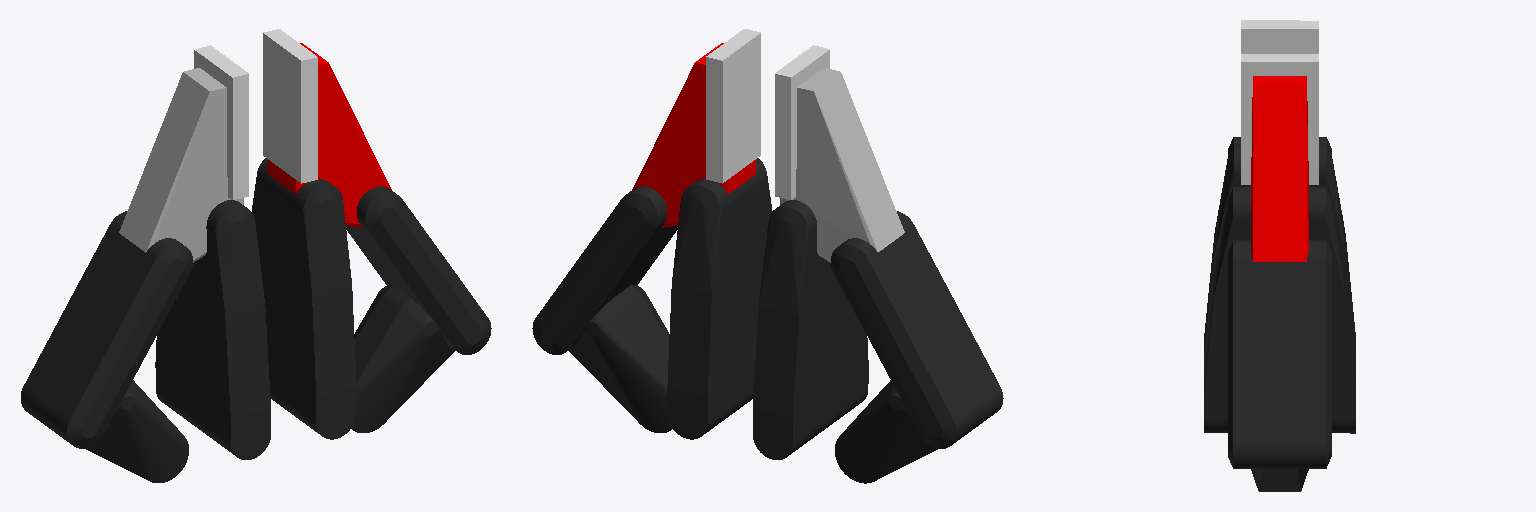
URDF robot description (gen3_robotiq_2f_85):
<?xml version="1.0" encoding="utf-8"?>
<!-- =================================================================================== -->
<!-- |    This document was autogenerated by xacro from gen3_robotiq_2f_85.xacro       | -->
<!-- |    EDITING THIS FILE BY HAND IS NOT RECOMMENDED                                 | -->
<!-- =================================================================================== -->
<robot name="gen3_robotiq_2f_85">
<mujoco>
  <compiler meshdir="meshes/" balanceinertia="true" discardvisual="false"/>
</mujoco>
  <material name="White">
    <color rgba="1 1 1 1"/>
  </material>
  <material name="Grey">
    <color rgba="0.75294 0.75294 0.75294 1"/>
  </material>
  <material name="DarkGrey">
    <color rgba="0.2 0.2 0.2 1"/>
  </material>
  <material name="LightGrey">
    <color rgba="0.9 0.9 0.9 1"/>
  </material>
  <link name="mobile_base_link">
    <inertial>
      <origin rpy="0 0 0" xyz="0 0 0.085"/>
      <mass value="50.0"/>
      <inertia ixx="0.004622" ixy="9E-06" ixz="6E-05" iyy="0.004495" iyz="9E-06" izz="0.002079"/>
    </inertial>
    <visual>
      <origin rpy="0 0 0" xyz="0 0 0"/>
      <geometry>
        <mesh filename="meshes/base/mobile_base.obj"/>
      </geometry>
      <material name="White"/>
    </visual>
    <collision>
      <origin rpy="0 0 0" xyz="0 0 0"/>
      <geometry>
        <mesh filename="meshes/base/mobile_base.obj"/>
      </geometry>
    </collision>
  </link>
  <link name="kinova_base_link">
    <inertial>
      <origin rpy="0 0 0" xyz="-0.000648 -0.000166 0.084487"/>
      <mass value="1.697"/>
      <inertia ixx="0.004622" ixy="9E-06" ixz="6E-05" iyy="0.004495" iyz="9E-06" izz="0.002079"/>
    </inertial>
    <visual>
      <origin rpy="0 0 0" xyz="0 0 0"/>
      <geometry>
        <mesh filename="meshes/arm_col/base_link.STL"/>
      </geometry>
      <material name="">
        <color rgba="0.75294 0.75294 0.75294 1"/>
      </material>
    </visual>
    <collision>
      <origin rpy="0 0 0" xyz="0 0 0"/>
      <geometry>
        <mesh filename="meshes/arm_col/base_link.STL"/>
      </geometry>
    </collision>
  </link>
  <joint name="joint_0" type="fixed">
    <!-- NOTE: in reality x is reversed for kinova arm, hence non-zero rpy -->
    <origin rpy="0 0 3.14159" xyz="0 0 0.335"/>
    <parent link="mobile_base_link"/>
    <child link="kinova_base_link"/>
    <axis xyz="0 0 1"/>
  </joint>
  <link name="shoulder_link">
    <inertial>
      <origin rpy="0 0 0" xyz="-2.3E-05 -0.010364 -0.07336"/>
      <mass value="1.3773"/>
      <inertia ixx="0.00457" ixy="1E-06" ixz="2E-06" iyy="0.004831" iyz="0.000448" izz="0.001409"/>
    </inertial>
    <visual>
      <origin rpy="0 0 0" xyz="0 0 0"/>
      <geometry>
        <mesh filename="meshes/arm_col/shoulder_link.STL"/>
      </geometry>
      <material name="">
        <color rgba="0.75294 0.75294 0.75294 1"/>
      </material>
    </visual>
    <collision>
      <origin rpy="0 0 0" xyz="0 0 0"/>
      <geometry>
        <mesh filename="meshes/arm_col/shoulder_link.STL"/>
      </geometry>
    </collision>
  </link>
  <joint name="joint_1" type="continuous">
    <origin rpy="3.1416 2.7629E-18 -4.9305E-36" xyz="0 0 0.15643"/>
    <parent link="kinova_base_link"/>
    <child link="shoulder_link"/>
    <axis xyz="0 0 1"/>
    <limit effort="39" lower="-3.14" upper="3.14" velocity="1.3963"/>
  </joint>
  <link name="half_arm_1_link">
    <inertial>
      <origin rpy="0 0 0" xyz="-4.4E-05 -0.09958 -0.013278"/>
      <mass value="1.1636"/>
      <inertia ixx="0.011088" ixy="5E-06" ixz="0" iyy="0.001072" iyz="-0.000691" izz="0.011255"/>
    </inertial>
    <visual>
      <origin rpy="0 0 0" xyz="0 0 0"/>
      <geometry>
        <mesh filename="meshes/arm_col/half_arm_1_link.STL"/>
      </geometry>
      <material name="LightGrey">
        <color rgba="0.75294 0.75294 0.75294 1"/>
      </material>
    </visual>
    <collision>
      <origin rpy="0 0 0" xyz="0 0 0"/>
      <geometry>
        <mesh filename="meshes/arm_col/half_arm_1_link.STL"/>
      </geometry>
    </collision>
  </link>
  <joint name="joint_2" type="revolute">
    <origin rpy="1.5708 2.1343E-17 -1.1102E-16" xyz="0 0.005375 -0.12838"/>
    <parent link="shoulder_link"/>
    <child link="half_arm_1_link"/>
    <axis xyz="0 0 1"/>
    <limit effort="100" lower="-6.2832" upper="6.2832" velocity="0.5"/>
  </joint>
  <link name="half_arm_2_link">
    <inertial>
      <origin rpy="0 0 0" xyz="-4.4E-05 -0.006641 -0.117892"/>
      <mass value="1.1636"/>
      <inertia ixx="0.010932" ixy="0" ixz="-7E-06" iyy="0.011127" iyz="0.000606" izz="0.001043"/>
    </inertial>
    <visual>
      <origin rpy="0 0 0" xyz="0 0 0"/>
      <geometry>
        <mesh filename="meshes/arm_col/half_arm_2_link.STL"/>
      </geometry>
      <material name="Grey">
        <color rgba="0.75294 0.75294 0.75294 1"/>
      </material>
    </visual>
    <collision>
      <origin rpy="0 0 0" xyz="0 0 0"/>
      <geometry>
        <mesh filename="meshes/arm_col/half_arm_2_link.STL"/>
      </geometry>
    </collision>
  </link>
  <joint name="joint_3" type="revolute">
    <origin rpy="-1.5708 1.2326E-32 -2.9122E-16" xyz="0 -0.21038 -0.006375"/>
    <parent link="half_arm_1_link"/>
    <child link="half_arm_2_link"/>
    <axis xyz="0 0 1"/>
    <limit effort="100" lower="-6.2832" upper="6.2832" velocity="0.5"/>
  </joint>
  <link name="forearm_link">
    <inertial>
      <origin rpy="0 0 0" xyz="-1.8E-05 -0.075478 -0.015006"/>
      <mass value="0.9302"/>
      <inertia ixx="0.008147" ixy="-1E-06" ixz="0" iyy="0.000631" iyz="-0.0005" izz="0.008316"/>
    </inertial>
    <visual>
      <origin rpy="0 0 0" xyz="0 0 0"/>
      <geometry>
        <mesh filename="meshes/arm_col/forearm_link.STL"/>
      </geometry>
      <material name="LightGrey">
        <color rgba="0.75294 0.75294 0.75294 1"/>
      </material>
    </visual>
    <collision>
      <origin rpy="0 0 0" xyz="0 0 0"/>
      <geometry>
        <mesh filename="meshes/arm_col/forearm_link.STL"/>
      </geometry>
    </collision>
  </link>
  <joint name="joint_4" type="revolute">
    <origin rpy="1.5708 -6.6954E-17 -1.6653E-16" xyz="0 0.006375 -0.21038"/>
    <parent link="half_arm_2_link"/>
    <child link="forearm_link"/>
    <axis xyz="0 0 1"/>
    <limit effort="100" lower="-6.2832" upper="6.2832" velocity="0.5"/>
  </joint>
  <link name="spherical_wrist_1_link">
    <inertial>
      <origin rpy="0 0 0" xyz="1E-06 -0.009432 -0.063883"/>
      <mass value="0.6781"/>
      <inertia ixx="0.001596" ixy="0" ixz="0" iyy="0.001607" iyz="0.000256" izz="0.000399"/>
    </inertial>
    <visual>
      <origin rpy="0 0 0" xyz="0 0 0"/>
      <geometry>
        <mesh filename="meshes/arm_col/spherical_wrist_1_link.STL"/>
      </geometry>
      <material name="Grey">
        <color rgba="0.75294 0.75294 0.75294 1"/>
      </material>
    </visual>
    <collision>
      <origin rpy="0 0 0" xyz="0 0 0"/>
      <geometry>
        <mesh filename="meshes/arm_col/spherical_wrist_1_link.STL"/>
      </geometry>
    </collision>
  </link>
  <joint name="joint_5" type="revolute">
    <origin rpy="-1.5708 2.2204E-16 -6.373E-17" xyz="0 -0.20843 -0.006375"/>
    <parent link="forearm_link"/>
    <child link="spherical_wrist_1_link"/>
    <axis xyz="0 0 1"/>
    <limit effort="30" lower="-6.2832" upper="6.2832" velocity="0.5"/>
  </joint>
  <link name="spherical_wrist_2_link">
    <inertial>
      <origin rpy="0 0 0" xyz="1E-06 -0.045483 -0.00965"/>
      <mass value="0.6781"/>
      <inertia ixx="0.001641" ixy="0" ixz="0" iyy="0.00041" iyz="-0.000278" izz="0.001641"/>
    </inertial>
    <visual>
      <origin rpy="0 0 0" xyz="0 0 0"/>
      <geometry>
        <mesh filename="meshes/arm_col/spherical_wrist_2_link.STL"/>
      </geometry>
      <material name="Grey">
        <color rgba="0.75294 0.75294 0.75294 1"/>
      </material>
    </visual>
    <collision>
      <origin rpy="0 0 0" xyz="0 0 0"/>
      <geometry>
        <mesh filename="meshes/arm_col/spherical_wrist_2_link.STL"/>
      </geometry>
    </collision>
  </link>
  <joint name="joint_6" type="revolute">
    <origin rpy="1.5708 9.2076E-28 -8.2157E-15" xyz="0 0.00017505 -0.10593"/>
    <parent link="spherical_wrist_1_link"/>
    <child link="spherical_wrist_2_link"/>
    <axis xyz="0 0 1"/>
    <limit effort="30" lower="-6.2832" upper="6.2832" velocity="0.5"/>
  </joint>
  <link name="bracelet_link">
    <inertial>
      <origin rpy="0 0 0" xyz="0.000281 0.011402 -0.029798"/>
      <mass value="0.5"/>
      <inertia ixx="0.000587" ixy="3E-06" ixz="3E-06" iyy="0.000369" iyz="-0.000118" izz="0.000609"/>
    </inertial>
    <visual>
      <origin rpy="0 0 0" xyz="0 0 0"/>
      <geometry>
        <mesh filename="meshes/arm_col/bracelet_with_vision_link.STL"/>
      </geometry>
      <material name="Grey">
        <color rgba="0.75294 0.75294 0.75294 1"/>
      </material>
    </visual>
    <collision>
      <origin rpy="0 0 0" xyz="0 0 0"/>
      <geometry>
        <mesh filename="meshes/arm_col/bracelet_with_vision_link.STL"/>
      </geometry>
    </collision>
  </link>
  <joint name="joint_7" type="revolute">
    <origin rpy="-1.5708 -5.5511E-17 9.6396E-17" xyz="0 -0.10593 -0.00017505"/>
    <parent link="spherical_wrist_2_link"/>
    <child link="bracelet_link"/>
    <axis xyz="0 0 1"/>
    <limit effort="30" lower="-6.2832" upper="6.2832" velocity="0.5"/>
  </joint>
  <link name="end_effector_link"/>
  <joint name="end_effector" type="fixed">
    <origin rpy="3.14159265358979 1.09937075168372E-32 0" xyz="0 0 -0.0615250000000001"/>
    <parent link="bracelet_link"/>
    <child link="end_effector_link"/>
    <axis xyz="0 0 0"/>
  </joint>
  <!-- Tool frame used by the arm -->
  <link name="tool_frame"/>
  <joint name="tool_frame_joint" type="fixed">
    <origin rpy="0 0 0" xyz="0 0 0.1425"/>  # was: 0.120
    <parent link="end_effector_link"/>
    <child link="tool_frame"/>
    <axis xyz="0 0 0"/>
  </joint>
  <!-- This joint was added by Kinova -->
  <joint name="gripper_base_joint" type="fixed">
    <parent link="end_effector_link"/>
    <child link="robotiq_arg2f_base_link"/>
    <origin rpy="0.0 0.0 1.57" xyz="0.0 0.0 0.0"/>
  </joint>
  <link name="robotiq_arg2f_base_link">
    <inertial>
      <origin rpy="0 0 0" xyz="8.625E-08 -4.6583E-06 0.03145"/>
      <mass value="0.22652"/>
      <inertia ixx="0.00020005" ixy="-4.2442E-10" ixz="-2.9069E-10" iyy="0.00017832" iyz="-3.4402E-08" izz="0.00013478"/>
    </inertial>
    <visual>
      <origin rpy="0 0 0" xyz="0 0 0"/>
      <geometry>
        <mesh filename="meshes/gripper/collision/robotiq_arg2f_base_link_kinova_frame.stl"/>
      </geometry>
      <material name="DarkGrey">
        <color rgba="0.1 0.1 0.1 1"/>
      </material>
    </visual>
    <collision>
      <origin rpy="0 0 0" xyz="0 0 0"/>
      <geometry>
        <mesh filename="meshes/gripper/collision/robotiq_arg2f_base_link_kinova_frame.stl"/>
      </geometry>
    </collision>
  </link>
  <gazebo reference="robotiq_arg2f_base_link">
    <material>Gazebo/Black</material>
  </gazebo>
  <link name="left_outer_knuckle">
    <inertial>
      <origin rpy="0 0 0" xyz="-0.000200000000003065 0.0199435877845359 0.0292245259211331"/>
      <mass value="0.00853198276973456"/>
      <inertia ixx="2.89328108496468E-06" ixy="-1.57935047237397E-19" ixz="-1.93980378593255E-19" iyy="1.86719750325683E-06" iyz="-1.21858577871576E-06" izz="1.21905238907251E-06"/>
    </inertial>
    <visual>
      <origin rpy="0 0 0" xyz="0 0 0"/>
      <geometry>
        <mesh filename="meshes/gripper/visual/robotiq_arg2f_85_outer_knuckle.stl" scale="0.001 0.001 0.001"/>
      </geometry>
      <material name="DarkGrey"/>
    </visual>
    <collision>
      <origin rpy="0 0 0" xyz="0 0 0"/>
      <geometry>
        <mesh filename="meshes/gripper/collision/robotiq_arg2f_85_outer_knuckle.stl" scale="0.001 0.001 0.001"/>
      </geometry>
    </collision>
  </link>
  <link name="left_outer_finger">
    <inertial>
      <origin rpy="0 0 0" xyz="0.00030115855001899 0.0373907951953854 -0.0208027427000385"/>
      <mass value="0.022614240507152"/>
      <inertia ixx="1.52518312458174E-05" ixy="9.76583423954399E-10" ixz="-5.43838577022588E-10" iyy="6.17694243867776E-06" iyz="6.78636130740228E-06" izz="1.16494917907219E-05"/>
    </inertial>
    <visual>
      <origin rpy="0 0 0" xyz="0 0 0"/>
      <geometry>
        <mesh filename="meshes/gripper/visual/robotiq_arg2f_85_outer_finger.stl" scale="0.001 0.001 0.001"/>
      </geometry>
      <material name="DarkGrey">
      </material>
    </visual>
    <collision>
      <origin rpy="0 0 0" xyz="0 0 0"/>
      <geometry>
        <mesh filename="meshes/gripper/collision/robotiq_arg2f_85_outer_finger.stl" scale="0.001 0.001 0.001"/>
      </geometry>
    </collision>
  </link>
  <link name="left_inner_finger">
    <inertial>
      <origin rpy="0 0 0" xyz="0.000299999999999317 0.0160078233491243 -0.0136945669206257"/>
      <mass value="0.0104003125914103"/>
      <inertia ixx="2.71909453810972E-06" ixy="1.35402465472579E-21" ixz="-7.1817349065269E-22" iyy="7.69100314106116E-07" iyz="6.74715432769696E-07" izz="2.30315190420171E-06"/>
    </inertial>
    <visual>
      <origin rpy="0 0 0" xyz="0 0 0"/>
      <geometry>
        <mesh filename="meshes/gripper/visual/robotiq_arg2f_85_inner_finger.stl" scale="0.001 0.001 0.001"/>
      </geometry>
      <material name="Grey"/>
    </visual>
    <collision>
      <origin rpy="0 0 0" xyz="0 0 0"/>
      <geometry>
        <mesh filename="meshes/gripper/collision/robotiq_arg2f_85_inner_finger.stl" scale="0.001 0.001 0.001"/>
      </geometry>
    </collision>
  </link>
  <link name="left_inner_finger_pad">
    <visual>
      <origin rpy="0 0 0" xyz="0 0 0"/>
      <geometry>
        <!-- box size="0.022 0.00635 0.0375"/ -->
        <mesh filename="meshes/gripper/visual/robotiq_arg2f_85_pad.stl" scale="0.001 0.001 0.001" />
      </geometry>
      <material name="Grey">
        <color rgba="0.9 0.9 0.9 1"/>
      </material>
    </visual>
    <collision>
      <origin rpy="0 0 0" xyz="0 0 0"/>
      <geometry>
        <!--box size="0.022 0.00635 0.0375"/ -->
        <mesh filename="meshes/gripper/collision/robotiq_arg2f_85_pad.stl" scale="0.001 0.001 0.001" />
      </geometry>
      <material name="Grey"/>
    </collision>
  </link>
  <link name="left_inner_knuckle">
    <inertial>
      <origin rpy="0 0 0" xyz="0.000123011831763771 0.0507850843201817 0.00103968640075166"/>
      <mass value="0.0271177346495152"/>
      <inertia ixx="2.61910379223783E-05" ixy="-2.43616858946494E-07" ixz="-6.37789906117123E-09" iyy="2.8270243746167E-06" iyz="-5.37200748039765E-07" izz="2.83695868220296E-05"/>
    </inertial>
    <visual>
      <origin rpy="0 0 0" xyz="0 0 0"/>
      <geometry>
        <mesh filename="meshes/gripper/visual/robotiq_arg2f_85_inner_knuckle.stl" scale="0.001 0.001 0.001"/>
      </geometry>
      <material name="DarkGrey"/>
    </visual>
    <collision>
      <origin rpy="0 0 0" xyz="0 0 0"/>
      <geometry>
        <mesh filename="meshes/gripper/collision/robotiq_arg2f_85_inner_knuckle.stl" scale="0.001 0.001 0.001"/>
      </geometry>
    </collision>
  </link>
  <link name="right_outer_knuckle">
    <inertial>
      <origin rpy="0 0 0" xyz="-0.000200000000003065 0.0199435877845359 0.0292245259211331"/>
      <mass value="0.00853198276973456"/>
      <inertia ixx="2.89328108496468E-06" ixy="-1.57935047237397E-19" ixz="-1.93980378593255E-19" iyy="1.86719750325683E-06" iyz="-1.21858577871576E-06" izz="1.21905238907251E-06"/>
    </inertial>
    <visual>
      <origin rpy="0 0 0" xyz="0 0 0"/>
      <geometry>
        <mesh filename="meshes/gripper/visual/robotiq_arg2f_85_outer_knuckle.stl" scale="0.001 0.001 0.001"/>
      </geometry>
      <material name="DarkGrey"/>
    </visual>
    <collision>
      <origin rpy="0 0 0" xyz="0 0 0"/>
      <geometry>
        <mesh filename="meshes/gripper/collision/robotiq_arg2f_85_outer_knuckle.stl" scale="0.001 0.001 0.001"/>
      </geometry>
    </collision>
  </link>
  <link name="right_outer_finger">
    <inertial>
      <origin rpy="0 0 0" xyz="0.00030115855001899 0.0373907951953854 -0.0208027427000385"/>
      <mass value="0.022614240507152"/>
      <inertia ixx="1.52518312458174E-05" ixy="9.76583423954399E-10" ixz="-5.43838577022588E-10" iyy="6.17694243867776E-06" iyz="6.78636130740228E-06" izz="1.16494917907219E-05"/>
    </inertial>
    <visual>
      <origin rpy="0 0 0" xyz="0 0 0"/>
      <geometry>
        <mesh filename="meshes/gripper/visual/robotiq_arg2f_85_outer_finger.stl" scale="0.001 0.001 0.001"/>
      </geometry>
      <material name="DarkGrey">
      </material>
    </visual>
    <collision>
      <origin rpy="0 0 0" xyz="0 0 0"/>
      <geometry>
        <mesh filename="meshes/gripper/collision/robotiq_arg2f_85_outer_finger.stl" scale="0.001 0.001 0.001"/>
      </geometry>
    </collision>
  </link>
  <link name="right_inner_finger">
    <inertial>
      <origin rpy="0 0 0" xyz="0.000299999999999317 0.0160078233491243 -0.0136945669206257"/>
      <mass value="0.0104003125914103"/>
      <inertia ixx="2.71909453810972E-06" ixy="1.35402465472579E-21" ixz="-7.1817349065269E-22" iyy="7.69100314106116E-07" iyz="6.74715432769696E-07" izz="2.30315190420171E-06"/>
    </inertial>
    <visual>
      <origin rpy="0 0 0" xyz="0 0 0"/>
      <geometry>
        <mesh filename="meshes/gripper/visual/robotiq_arg2f_85_inner_finger.stl" scale="0.001 0.001 0.001"/>
      </geometry>
      <material name="Grey">
        <color rgba="1 0 0 1"/>
      </material>
    </visual>
    <collision>
      <origin rpy="0 0 0" xyz="0 0 0"/>
      <geometry>
        <mesh filename="meshes/gripper/collision/robotiq_arg2f_85_inner_finger.stl" scale="0.001 0.001 0.001"/>
      </geometry>
    </collision>
  </link>
  <link name="right_inner_finger_pad">
    <visual>
      <origin rpy="0 0 0" xyz="0 0 0"/>
      <geometry>
        <!-- box size="0.022 0.00635 0.0375"/ -->
        <mesh filename="meshes/gripper/visual/robotiq_arg2f_85_pad.stl" scale="0.001 0.001 0.001" />
      </geometry>
      <material name="Grey">
        <color rgba="0.9 0.9 0.9 1"/>
      </material>
    </visual>
    <collision>
      <origin rpy="0 0 0" xyz="0 0 0"/>
      <geometry>
        <!-- box size="0.022 0.00635 0.0375"/ -->
        <mesh filename="meshes/gripper/collision/robotiq_arg2f_85_pad.stl" scale="0.001 0.001 0.001" />
      </geometry>
      <material name="Grey">
        <color rgba="0.9 0.0 0.0 1"/>
      </material>
    </collision>
  </link>
  <link name="right_inner_knuckle">
    <inertial>
      <origin rpy="0 0 0" xyz="0.000123011831763771 0.0507850843201817 0.00103968640075166"/>
      <mass value="0.0271177346495152"/>
      <inertia ixx="2.61910379223783E-05" ixy="-2.43616858946494E-07" ixz="-6.37789906117123E-09" iyy="2.8270243746167E-06" iyz="-5.37200748039765E-07" izz="2.83695868220296E-05"/>
    </inertial>
    <visual>
      <origin rpy="0 0 0" xyz="0 0 0"/>
      <geometry>
        <mesh filename="meshes/gripper/visual/robotiq_arg2f_85_inner_knuckle.stl" scale="0.001 0.001 0.001"/>
      </geometry>
      <material name="DarkGrey"/>
    </visual>
    <collision>
      <origin rpy="0 0 0" xyz="0 0 0"/>
      <geometry>
        <mesh filename="meshes/gripper/collision/robotiq_arg2f_85_inner_knuckle.stl" scale="0.001 0.001 0.001"/>
      </geometry>
    </collision>
  </link>
  <joint name="finger_joint" type="fixed">
    <origin rpy="0.7 0 3.14159265359" xyz="0 -0.0306011 0.054904"/>
    <parent link="robotiq_arg2f_base_link"/>
    <child link="left_outer_knuckle"/>
    <axis xyz="1 0 0"/>
    <limit effort="1000" lower="0" upper="0.8" velocity="2.0"/>
  </joint>
  <joint name="left_outer_finger_joint" type="fixed">
    <origin rpy="0 0 0" xyz="0 0.0315 -0.0041"/>
    <parent link="left_outer_knuckle"/>
    <child link="left_outer_finger"/>
    <axis xyz="1 0 0"/>
  </joint>
  <joint name="left_inner_knuckle_joint" type="fixed">>
    <!-- <origin xyz="0 ${reflect * -0.0127} 0.06142" rpy="${pi / 2 + .725} 0 ${(reflect - 1) * pi / 2}" /> -->
    <origin rpy="0.7 0 3.14159265359" xyz="0 -0.0127 0.06142"/>
    <parent link="robotiq_arg2f_base_link"/>
    <child link="left_inner_knuckle"/>
    <axis xyz="1 0 0"/>
    <limit effort="1000" lower="0" upper="0.8757" velocity="2.0"/>
    <mimic joint="finger_joint" multiplier="1" offset="0"/>
  </joint>
  <joint name="left_inner_finger_joint" type="fixed">>
    <origin rpy="-0.7 0 0" xyz="0 0.0061 0.0471"/>
    <parent link="left_outer_finger"/>
    <child link="left_inner_finger"/>
    <axis xyz="1 0 0"/>
    <limit effort="1000" lower="-0.8757" upper="0.8757" velocity="2.0"/>
    <mimic joint="finger_joint" multiplier="-1" offset="0"/>
  </joint>
  <joint name="left_inner_finger_pad_joint" type="fixed">
    <origin rpy="0 0 0" xyz="0 0 0"/>
    <parent link="left_inner_finger"/>
    <child link="left_inner_finger_pad"/>
    <axis xyz="0 0 1"/>
  </joint>
  <joint name="right_outer_knuckle_joint" type="fixed">>
    <origin rpy="0.7 0 0" xyz="0 0.0306011 0.054904"/>
    <parent link="robotiq_arg2f_base_link"/>
    <child link="right_outer_knuckle"/>
    <axis xyz="1 0 0"/>
    <limit effort="1000" lower="0" upper="0.81" velocity="2.0"/>
    <mimic joint="finger_joint" multiplier="1" offset="0"/>
  </joint>
  <joint name="right_outer_finger_joint" type="fixed">
    <origin rpy="0 0 0" xyz="0 0.0315 -0.0041"/>
    <parent link="right_outer_knuckle"/>
    <child link="right_outer_finger"/>
    <axis xyz="1 0 0"/>
  </joint>
  <joint name="right_inner_knuckle_joint" type="fixed">>
    <!-- <origin xyz="0 ${reflect * -0.0127} 0.06142" rpy="${pi / 2 + .725} 0 ${(reflect - 1) * pi / 2}" /> -->
    <origin rpy="0.7 0 0.0" xyz="0 0.0127 0.06142"/>
    <parent link="robotiq_arg2f_base_link"/>
    <child link="right_inner_knuckle"/>
    <axis xyz="1 0 0"/>
    <limit effort="1000" lower="0.8757" upper="0.8757" velocity="2.0"/>
    <mimic joint="finger_joint" multiplier="1" offset="0"/>
  </joint>
  <joint name="right_inner_finger_joint" type="fixed">>
    <origin rpy="-0.7 0 0" xyz="0 0.0061 0.0471"/>
    <parent link="right_outer_finger"/>
    <child link="right_inner_finger"/>
    <axis xyz="1 0 0"/>
    <limit effort="1000" lower="-0.8757" upper="0.8757" velocity="2.0"/>
    <mimic joint="finger_joint" multiplier="-1" offset="0"/>
  </joint>
  <joint name="right_inner_finger_pad_joint" type="fixed">
    <origin rpy="0 0 0" xyz="0 0 0"/>
    <parent link="right_inner_finger"/>
    <child link="right_inner_finger_pad"/>
    <axis xyz="0 0 1"/>
  </joint>
</robot>

--- Render facts (derived) ---
The picture shows the robot from 3 angles, left to right: view 1: azimuth 30°, elevation 25°; view 2: azimuth 150°, elevation 25°; view 3: azimuth 270°, elevation 25°; orthographic projection.
Robot: gen3_robotiq_2f_85 — 22 links, 21 joints (6 revolute, 1 continuous, 14 fixed); root link mobile_base_link; default pose: all joints at 0.
Links seen in each view (by area): view 1: right_inner_knuckle, left_inner_knuckle, left_outer_finger, left_inner_finger, right_outer_finger, right_outer_knuckle, right_inner_finger_pad, right_inner_finger, left_outer_knuckle, left_inner_finger_pad; view 2: right_inner_knuckle, left_inner_knuckle, left_outer_finger, left_inner_finger, right_outer_finger, right_outer_knuckle, right_inner_finger_pad, right_inner_finger, left_outer_knuckle, left_inner_finger_pad; view 3: right_outer_finger, right_inner_finger, right_inner_knuckle, right_inner_finger_pad, left_inner_knuckle, left_inner_finger_pad, right_outer_knuckle.
Link boxes in pixels (x1,y1,x2,y2): right_inner_knuckle: (252,158,356,439); left_inner_knuckle: (155,200,270,459); left_outer_finger: (21,211,192,448); left_inner_finger: (119,68,243,262); right_outer_finger: (346,186,491,354); right_outer_knuckle: (351,285,454,432); right_inner_finger_pad: (263,29,317,183); right_inner_finger: (268,43,391,227); left_outer_knuckle: (86,380,188,482); left_inner_finger_pad: (194,45,248,199); right_inner_knuckle: (667,158,772,439); left_inner_knuckle: (753,200,868,459); left_outer_finger: (831,211,1003,448); left_inner_finger: (780,68,904,262); right_outer_finger: (532,186,677,354); right_outer_knuckle: (569,285,672,432); right_inner_finger_pad: (706,29,760,183); right_inner_finger: (632,43,755,227); left_outer_knuckle: (835,380,937,483); left_inner_finger_pad: (775,45,829,199); right_outer_finger: (1228,240,1331,468); right_inner_finger: (1251,76,1308,261); right_inner_knuckle: (1204,187,1355,433); right_inner_finger_pad: (1241,54,1318,184); left_inner_knuckle: (1204,144,1355,374); left_inner_finger_pad: (1241,20,1318,53); right_outer_knuckle: (1251,469,1308,491).
Size in the robot's own frame: 0.1267 by 0.039 by 0.1131 metres.
10 mesh visuals loaded from 15 distinct referenced files (5 binary STL); not drawn: 10 (reference not matched to a file when rendering).